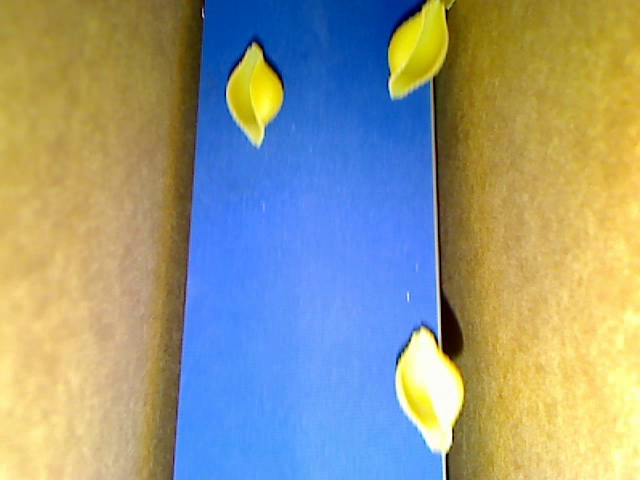shell: (392, 323, 462, 452), (221, 34, 285, 151), (385, 1, 447, 102)
